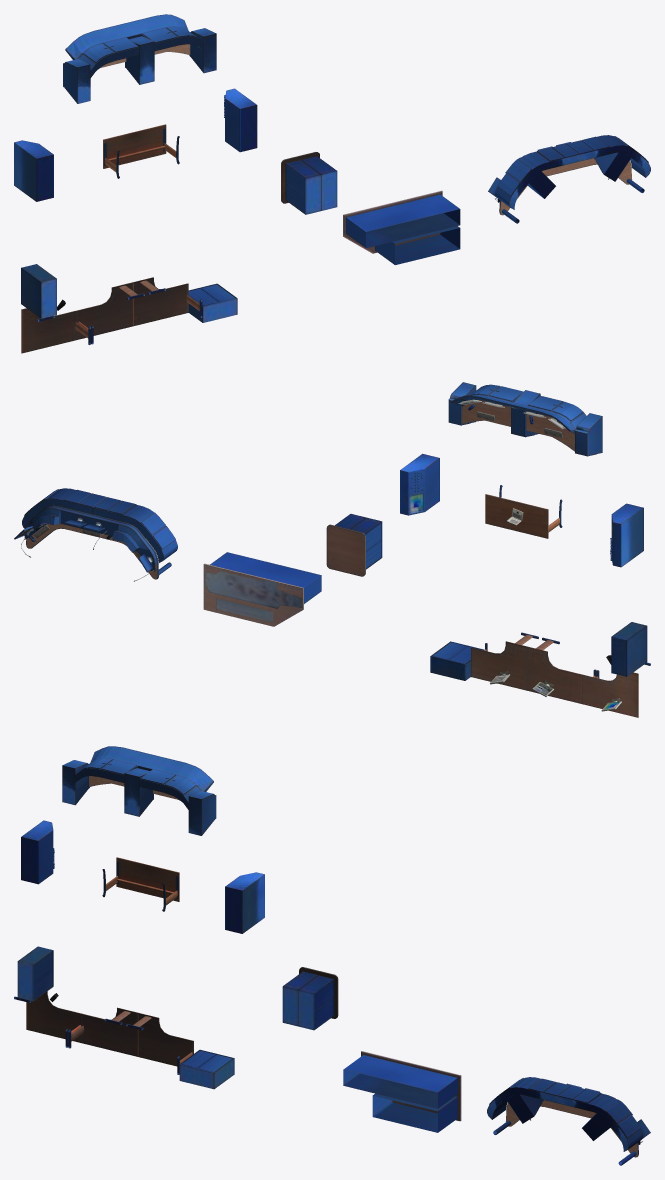
The model's file is cvfFrIlotArriereIntPont3Travail.fbx.
3 views of the same model, one above another, from view 1: azimuth 30°, elevation 25°; view 2: azimuth 150°, elevation 25°; view 3: azimuth 330°, elevation 25° (orthographic).
Visible parts, largest first — view 1: ShapeIndexedFaceSet; view 2: ShapeIndexedFaceSet; view 3: ShapeIndexedFaceSet.
Boxes of the visible parts, bbox=[...] form: ShapeIndexedFaceSet: bbox=[14, 14, 650, 353]; ShapeIndexedFaceSet: bbox=[14, 382, 650, 717]; ShapeIndexedFaceSet: bbox=[14, 746, 650, 1165].
Size of the model in its own units: 17.68 by 8.05 by 1.34.
